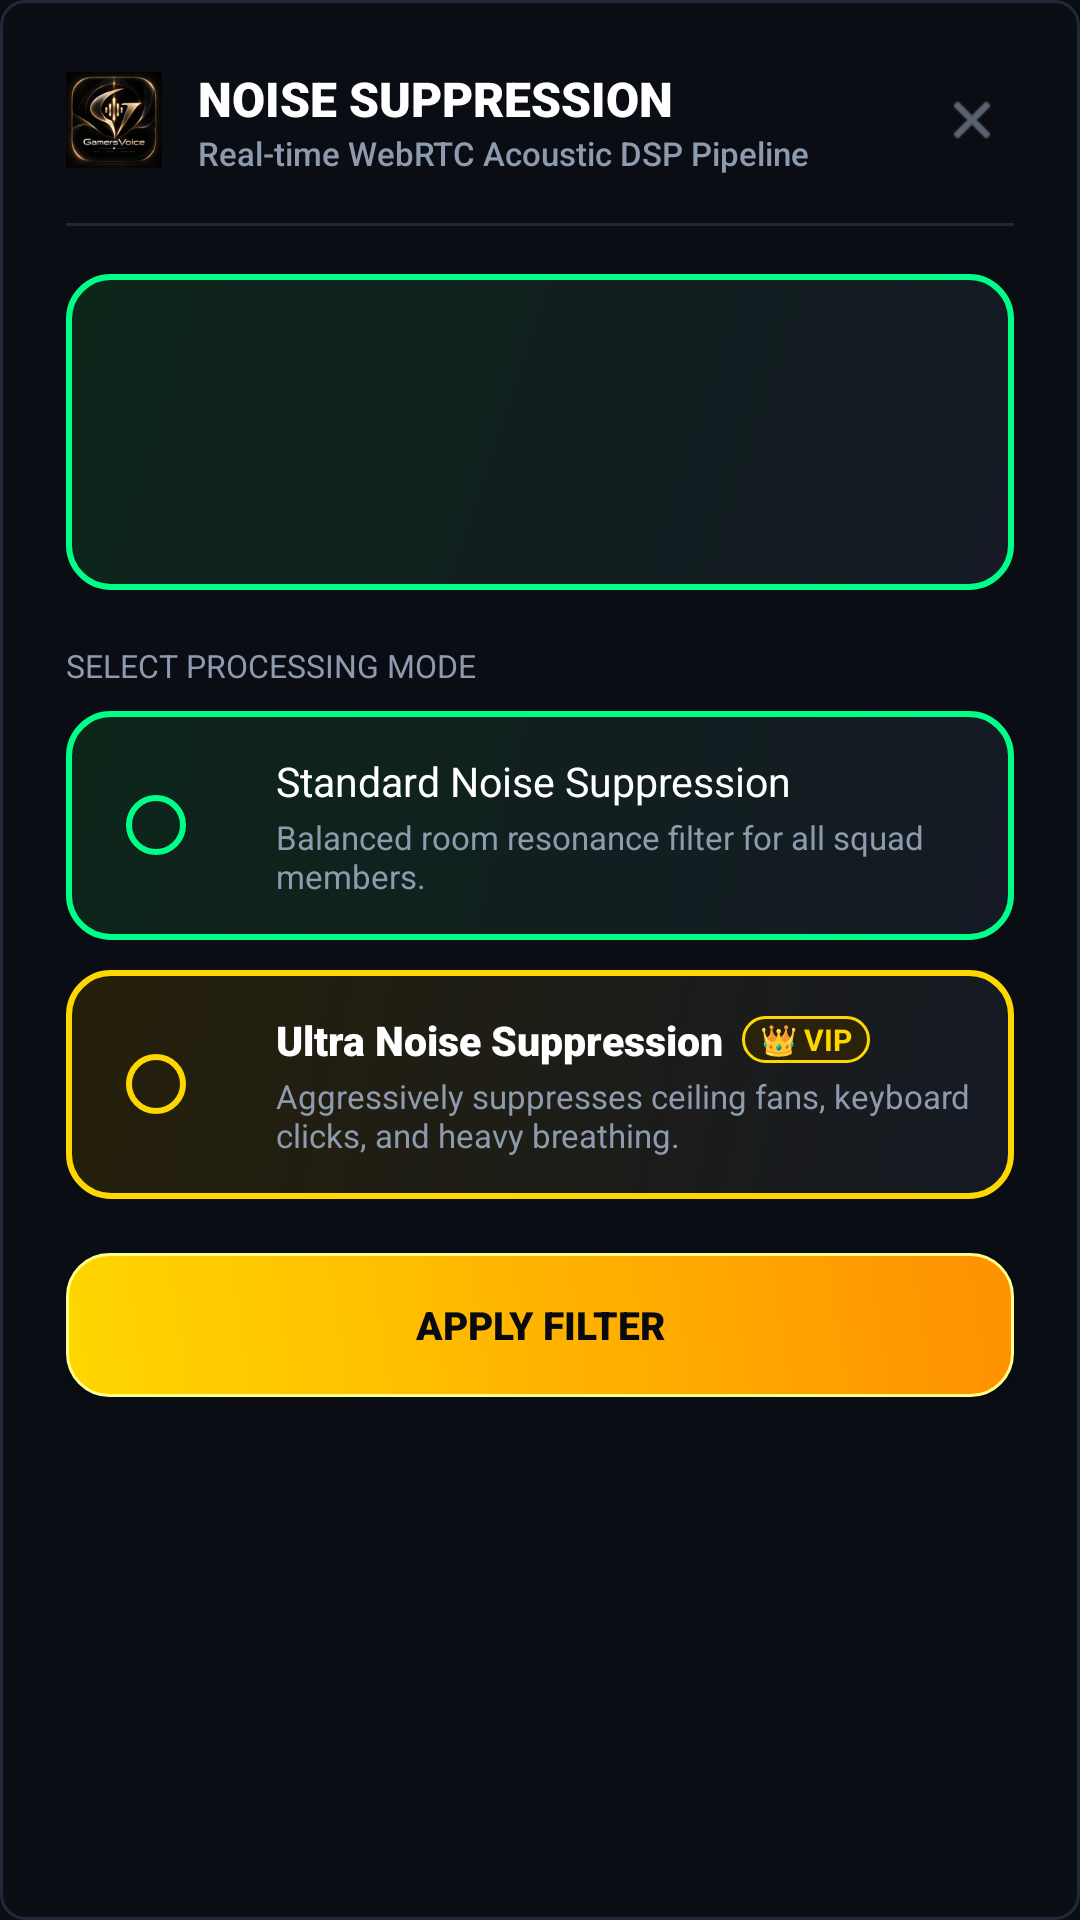

Icon click points for this 1080w x 1920h phone screenshot, format (x=x, y=y):
Close: (x=972, y=120)
